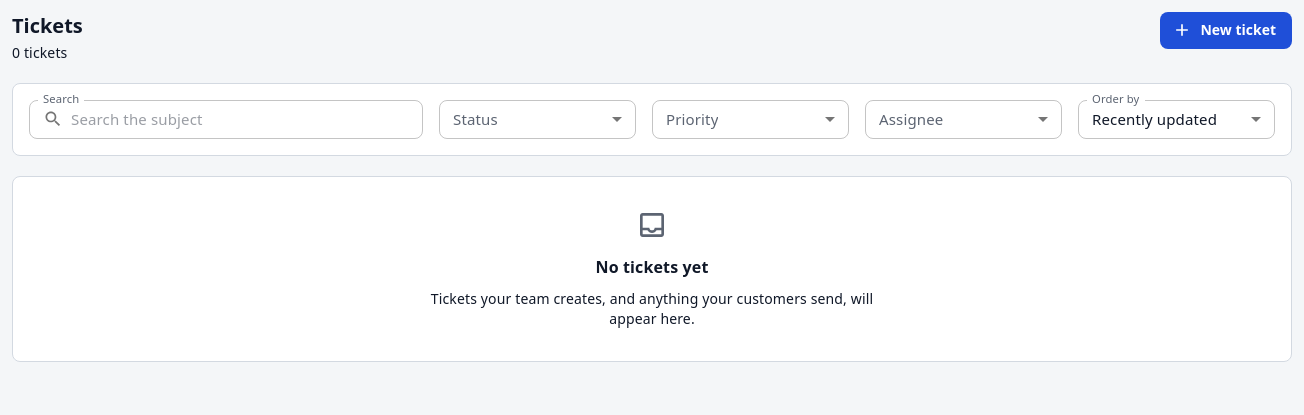
it: TicketInboxPage › distinguishes an empty workspace from an empty filter result
Expected: the text "No tickets yet" is shown, [596,253,708,281]
Expected: the text "No tickets match these filters" is not shown
Click the dropdown named "Priority" next to "Priority" at (750, 119), box [652,100,849,139]
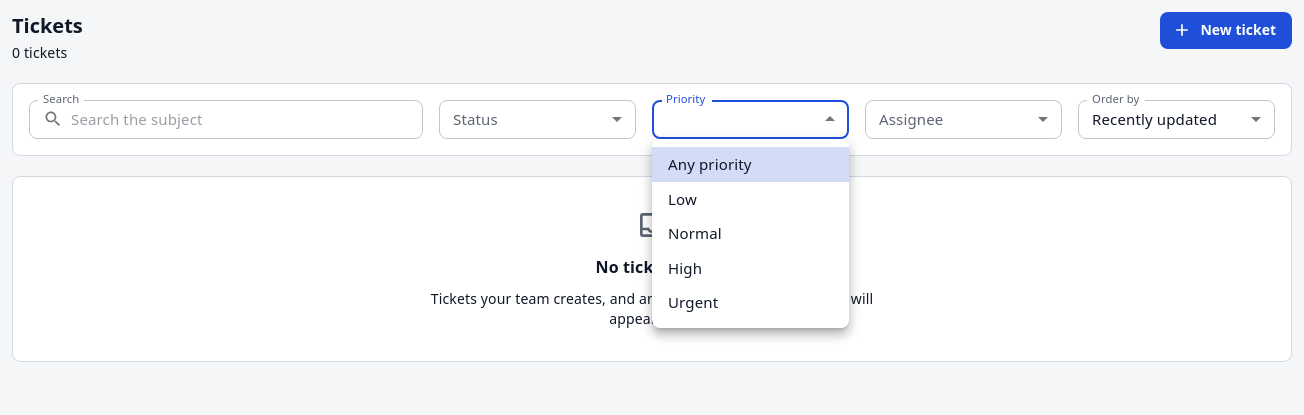
Click the option "Urgent" at (693, 302), box [668,292,718,312]
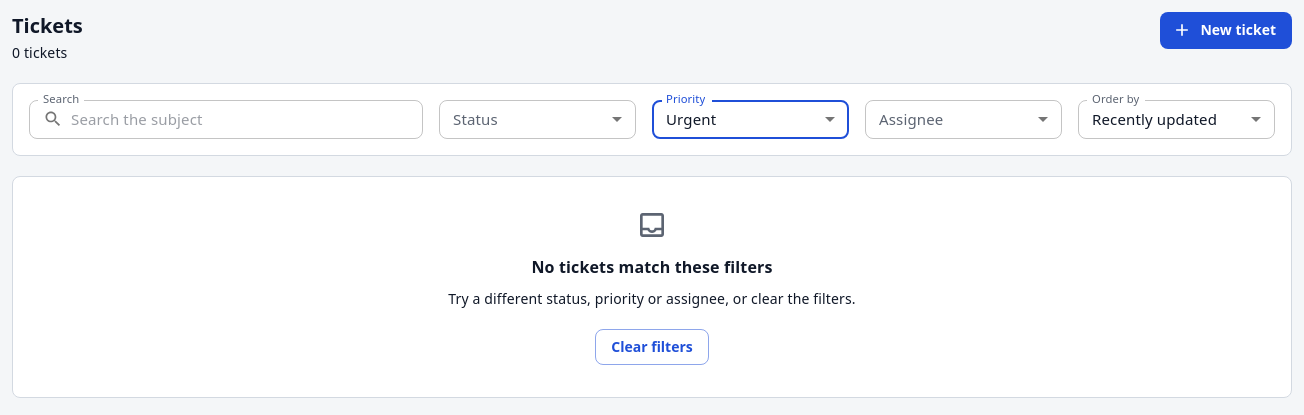
Expected: the text "No tickets match these filters" is shown, [532,253,772,281]
Expected: the button "Clear filters" is shown, [595,329,709,365]
